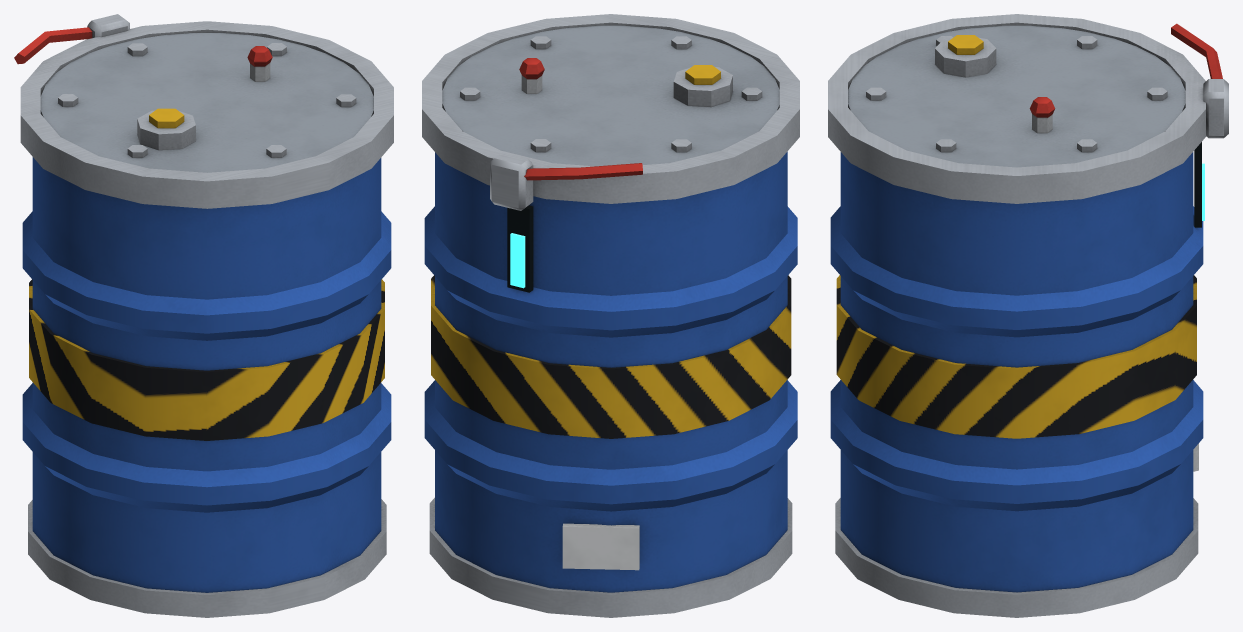
File: barril_metal.fbx
3 views of the same model, side by side, from view 1: azimuth 30°, elevation 25°; view 2: azimuth 150°, elevation 25°; view 3: azimuth 270°, elevation 25° (orthographic).
Visible parts, largest first — view 1: barril_metal; view 2: barril_metal, barril_metal_neon; view 3: barril_metal.
Part boxes in pixels (x1,y1,x2,y2): barril_metal: (14,14,393,617); barril_metal: (422,14,799,617); barril_metal_neon: (510,233,525,288); barril_metal: (828,14,1228,617).
Size of the model in its own units: 1.5 by 2.05 by 1.57.
Materials: 2 (2 with a texture image).
